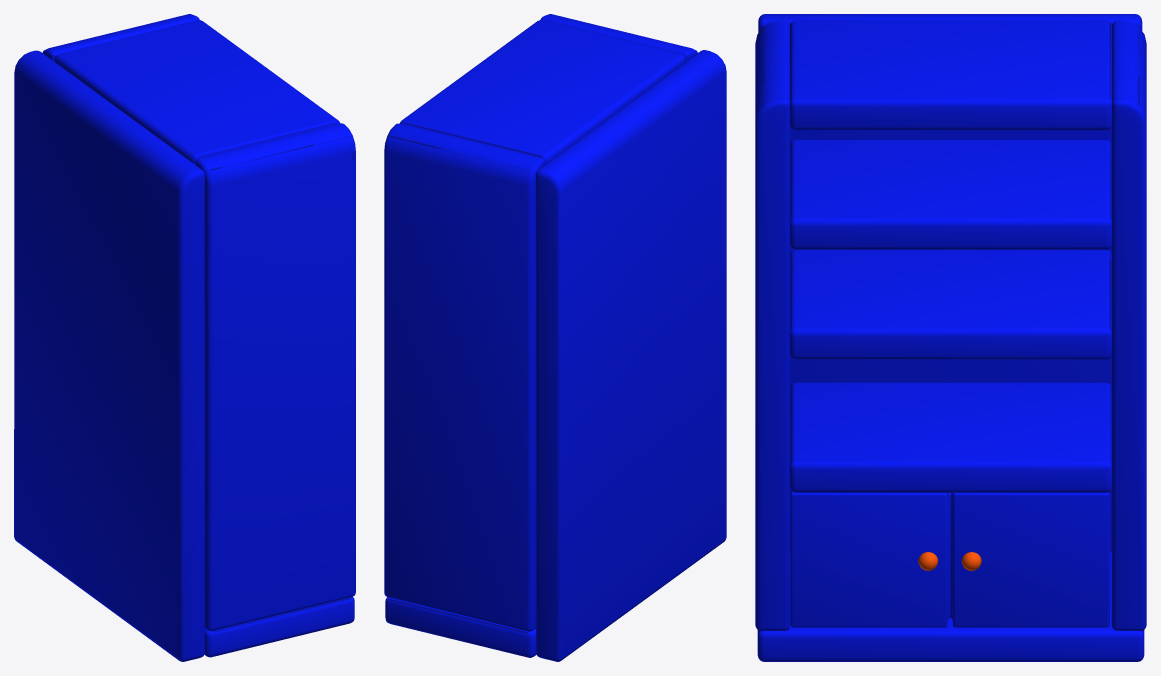
Rendered from Armoire 1.fbx.
The picture shows the model from 3 angles, left to right: view 1: azimuth 30°, elevation 25°; view 2: azimuth 150°, elevation 25°; view 3: azimuth 270°, elevation 25°; orthographic projection. The views are drawn at different scales.
Visible parts, largest first — view 1: Cube.013; view 2: Cube.013; view 3: Cube.013.
Part boxes in pixels (bbox=[...]): Cube.013: bbox=[14, 14, 355, 661]; Cube.013: bbox=[384, 14, 726, 661]; Cube.013: bbox=[755, 14, 1146, 661].
Size of the model in its own units: 131 by 343 by 216.
1 material, 1 textured.
